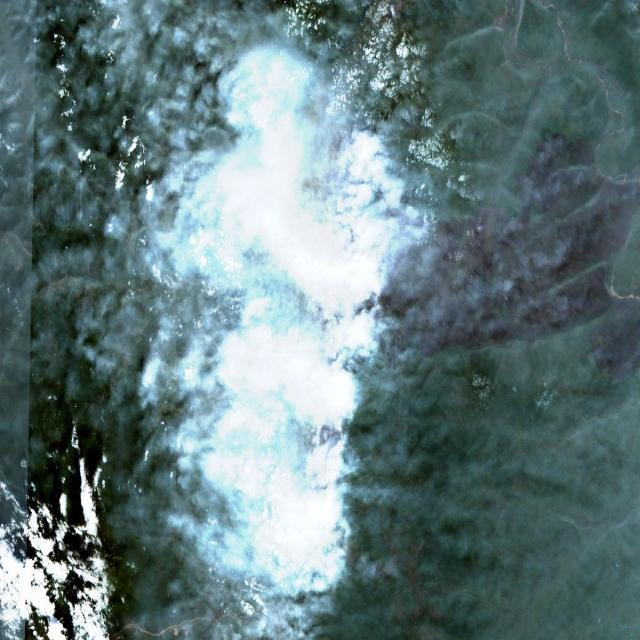fire: (302, 119, 431, 513)
